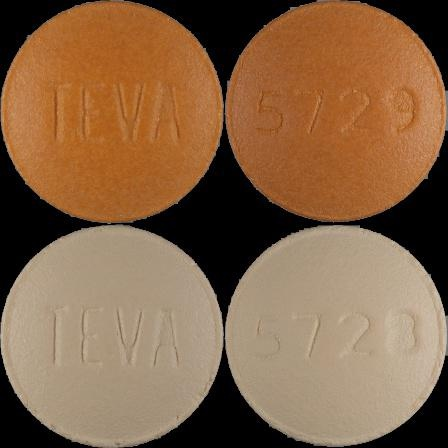51655-102: (0, 0, 224, 224)
